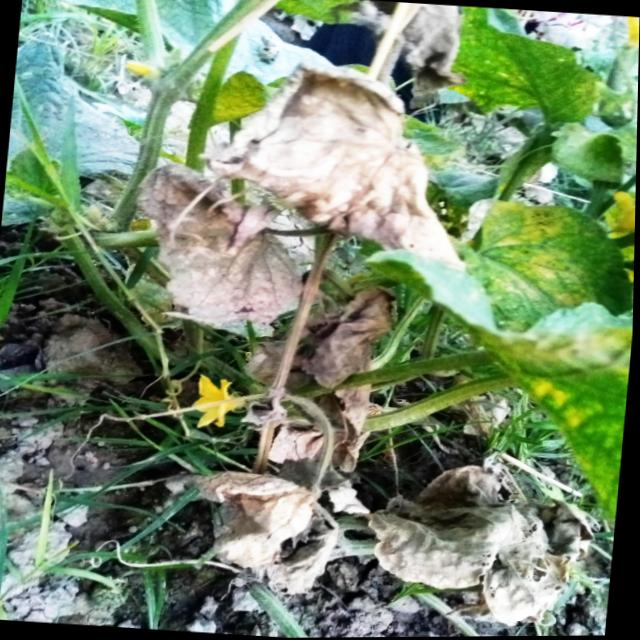Bacterial-Wilt: (193, 56, 466, 268), (133, 163, 300, 329), (162, 468, 326, 569)
